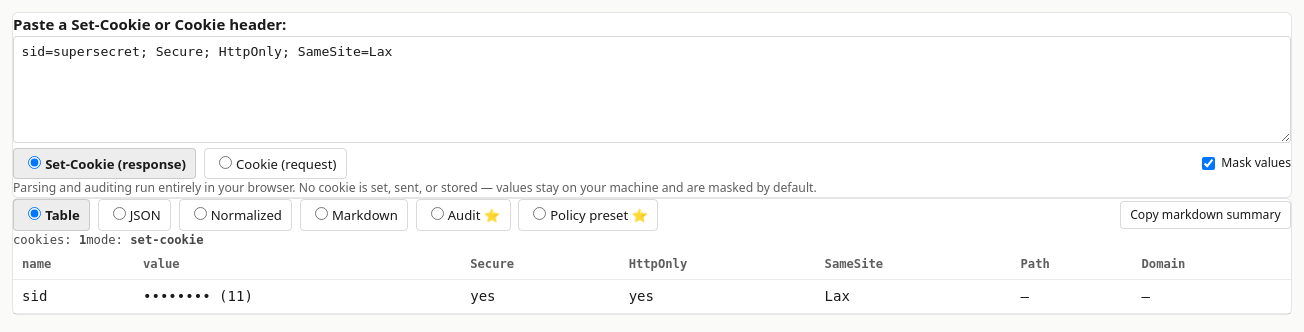
Test: CookiesApp › masks the value by default and reveals it when unchecked
Expected: the element with test id "cookies-value-0" does not show "supersecret"
Click the checkbox with test id "cookies-mask" showing "Mask values": click(1209, 164) [1202,157,1215,170]
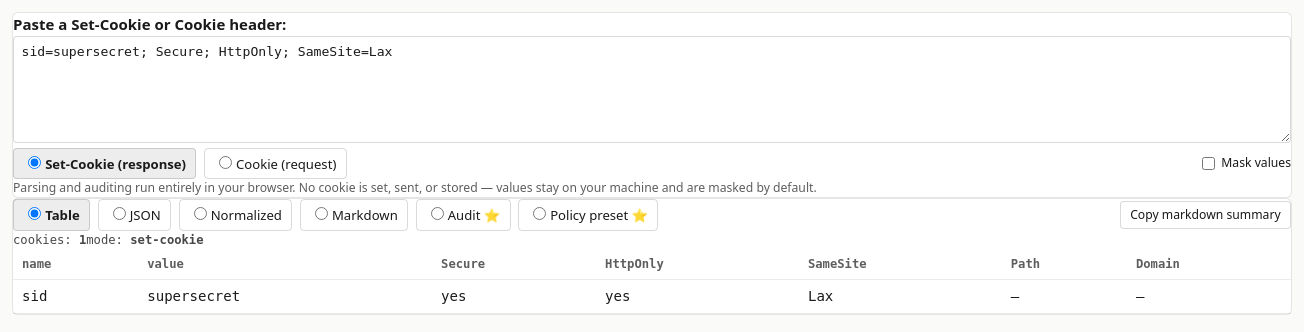
Now the cell with test id "cookies-value-0" reads "supersecret", box [147,288,240,304]
